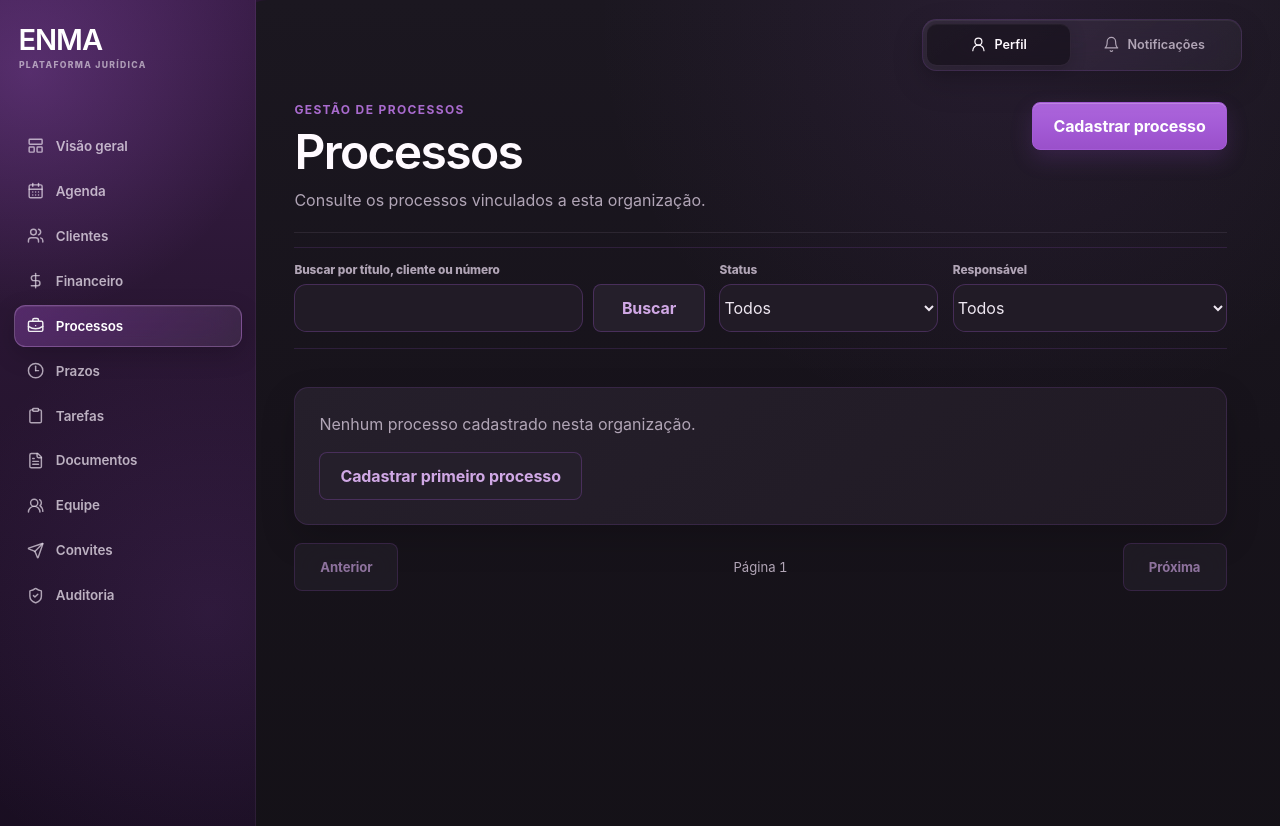
Processes D1 flow › ClientLookup_BlankAndNonblankEmptyStates_AreDistinct
Check: the text "Nenhum processo cadastrado nesta organização." is shown, box [319, 414, 696, 434]
Click the button "Cadastrar processo" at (1130, 126), box [1032, 102, 1227, 150]
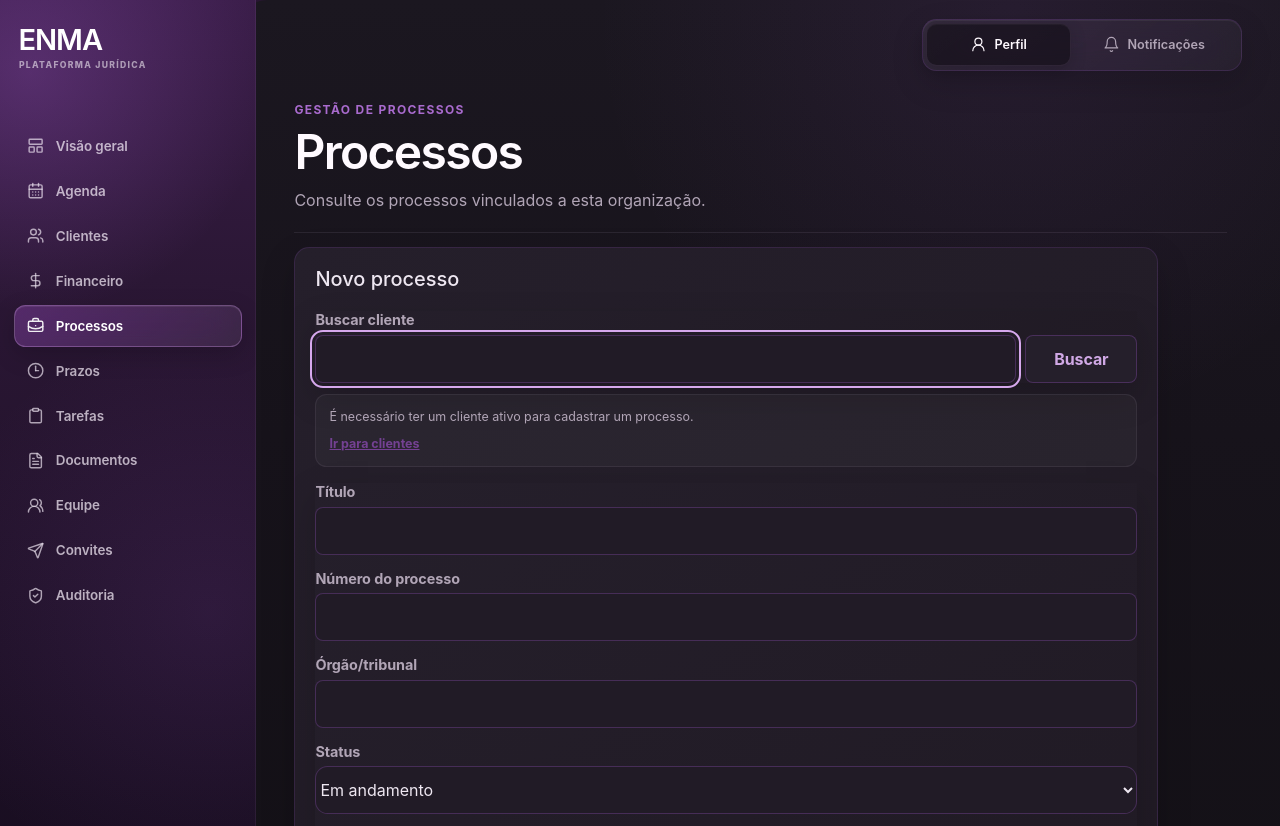
Check: the heading "Novo processo" is shown, box [315, 267, 460, 291]
Check: the text "É necessário ter um cliente ativo para cadastrar um processo." is shown, box [330, 408, 694, 424]
Type "Inexistente" into the field labelled "Buscar cliente" at (666, 359), box [315, 335, 1016, 383]
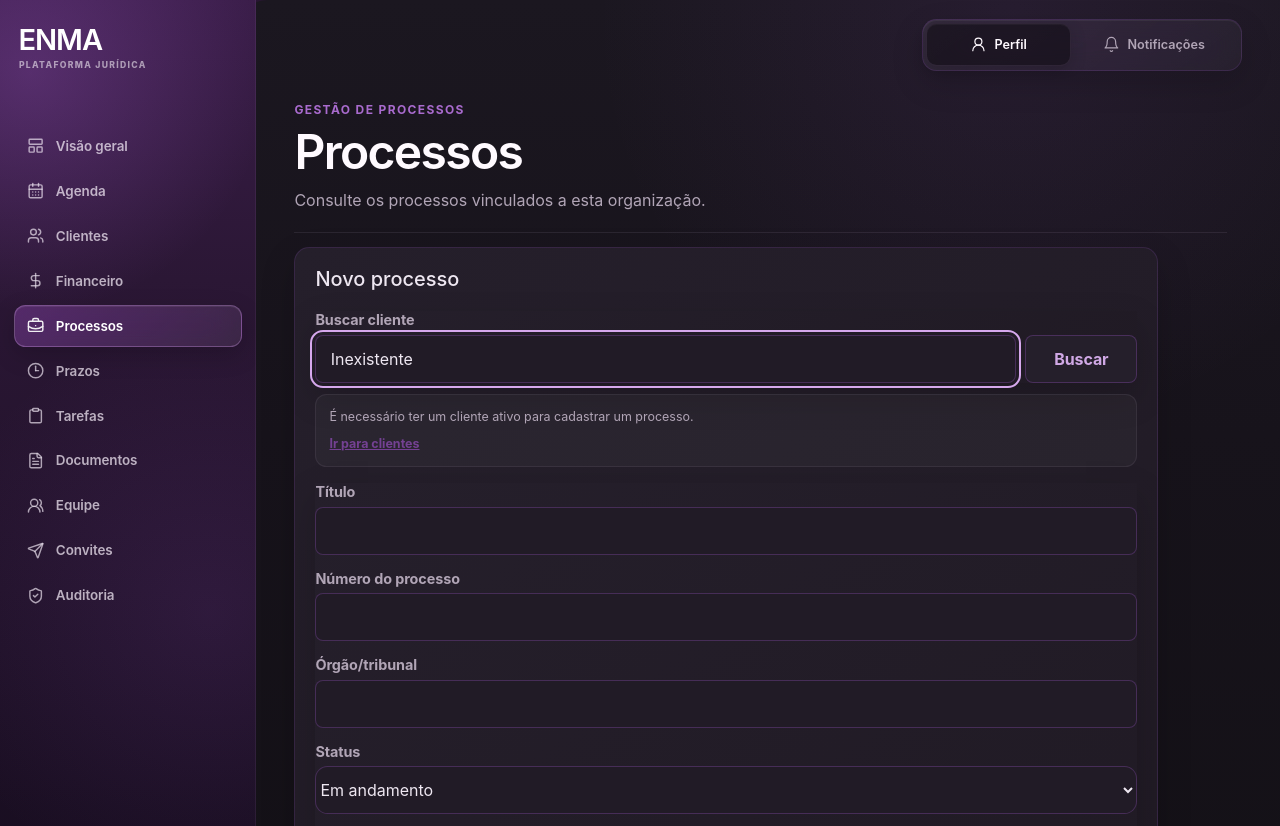
Click the button "Buscar" at (1081, 359), box [1025, 335, 1137, 383]
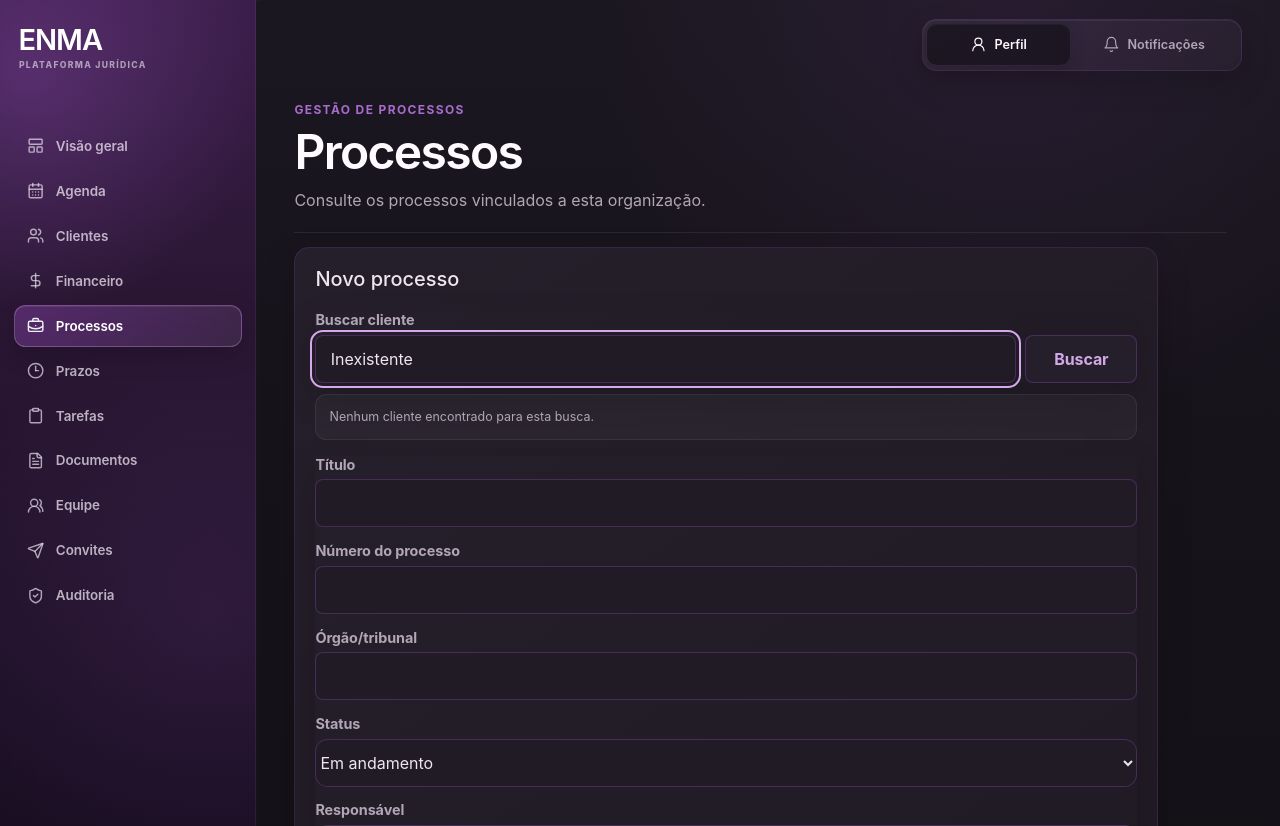
Check: the text "Nenhum cliente encontrado para esta busca." is shown, box [330, 408, 594, 424]
Check: the text "É necessário ter um cliente ativo para cadastrar um processo." is gone
